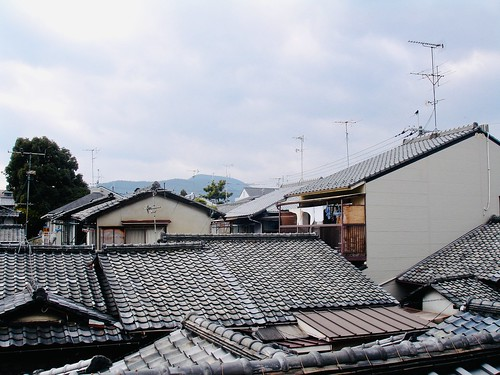building: (292, 143, 500, 362), (1, 247, 329, 375), (32, 178, 243, 253)
sky: (10, 1, 500, 154)
tree: (1, 139, 89, 225)
